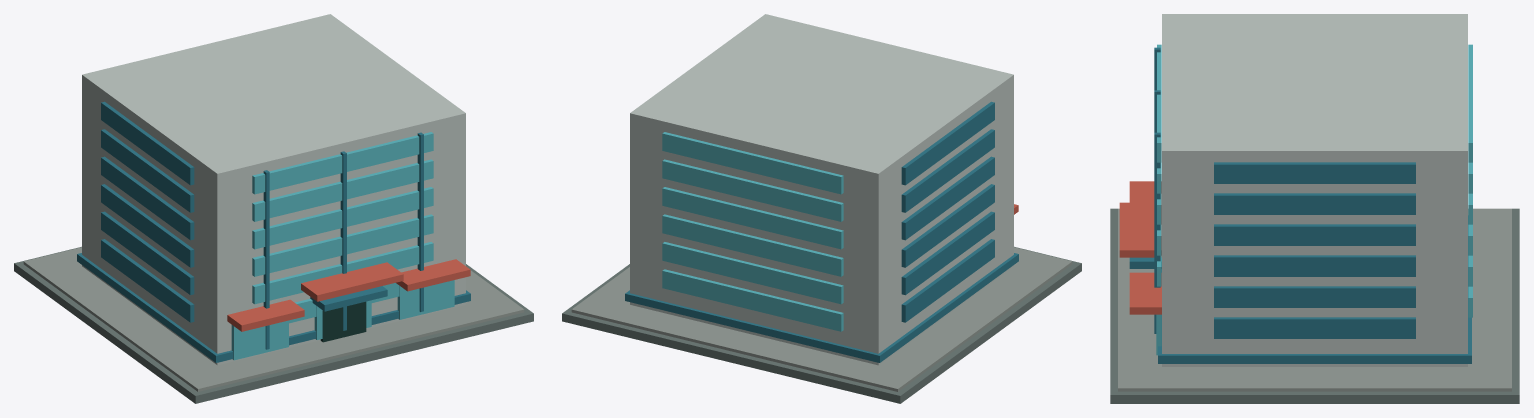
File: office_lv1.glb
3 renders of one model, left to right at view 1: azimuth 30°, elevation 25°; view 2: azimuth 150°, elevation 25°; view 3: azimuth 270°, elevation 25°, orthographic. The views are drawn at different scales.
Visible parts, largest first — view 1: rough, glossy; view 2: rough, glossy; view 3: rough, glossy.
Part boxes in pixels (x1=…): rough: x1=14, y1=14, x2=533, y2=403; glossy: x1=77, y1=101, x2=470, y2=362; rough: x1=562, y1=14, x2=1081, y2=403; glossy: x1=625, y1=101, x2=1018, y2=362; rough: x1=1110, y1=14, x2=1519, y2=403; glossy: x1=1129, y1=44, x2=1472, y2=363.
Bounding box in the file's own units: 9.8 × 5.6 × 9.1.
